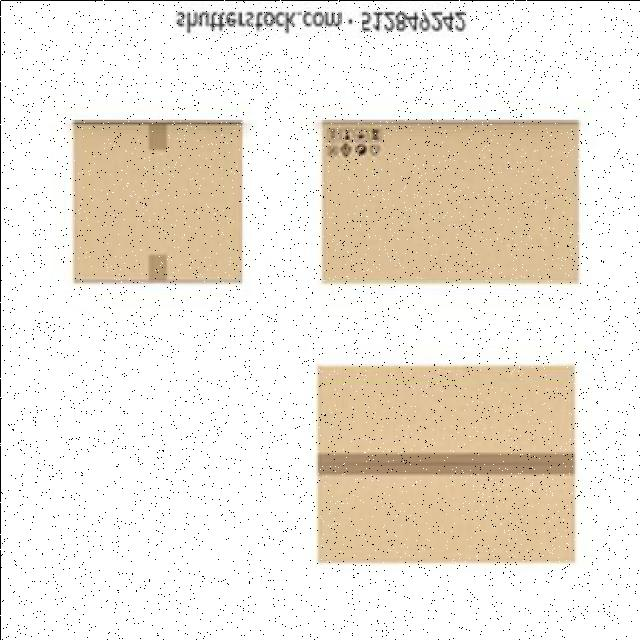normal: (309, 360, 582, 568), (312, 112, 583, 286), (66, 114, 248, 286)
